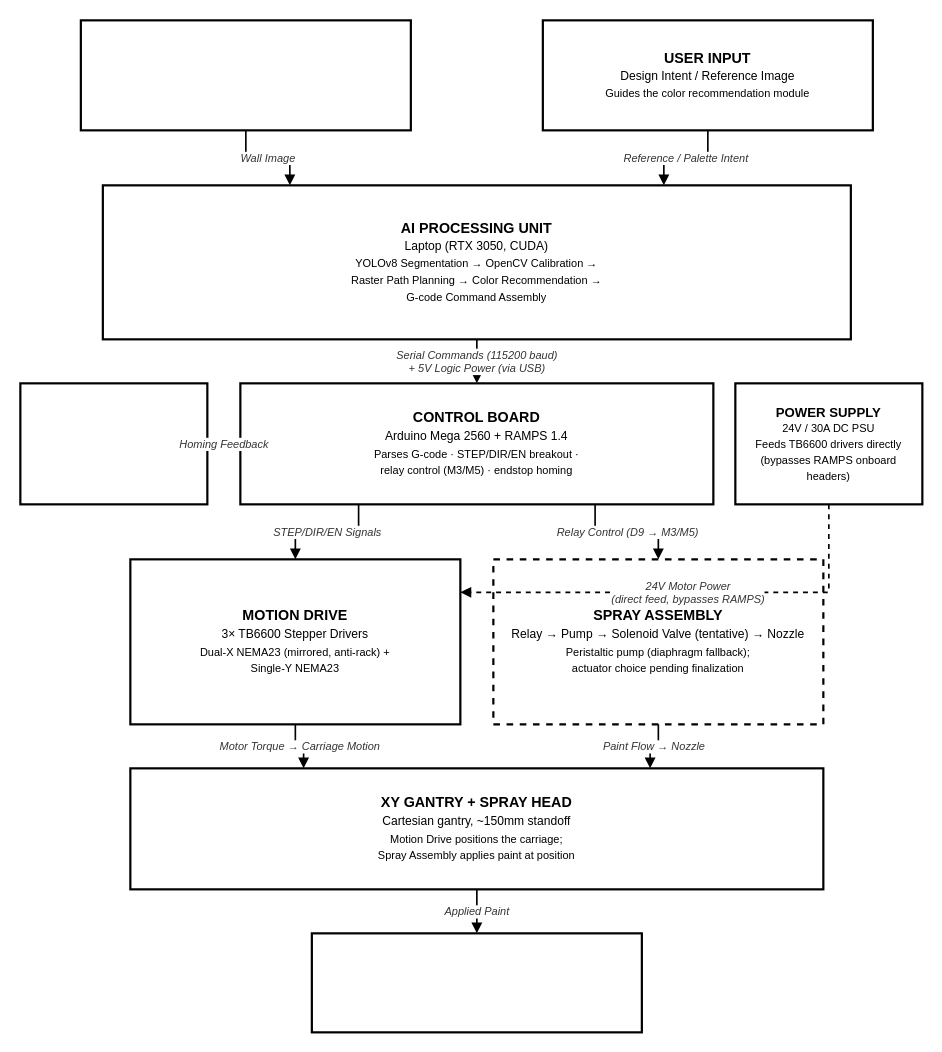
This 942x1052 diagram has some shape labels left out. The shapes that lost their labels are listed below. From the top down, each one's box as (x1, y1, x2, y2) in pixels, then its label:
(79, 19, 411, 131): VISION INPUT USB / HD Camera Captures wall image for AI processing
(19, 382, 208, 505): LIMIT SWITCHES X-min, X-max, Y-min (+ spare) Homing reference for dual-X gantry
(310, 932, 642, 1033): OUTPUT Painted Wall Final applied result, captured for evaluation
